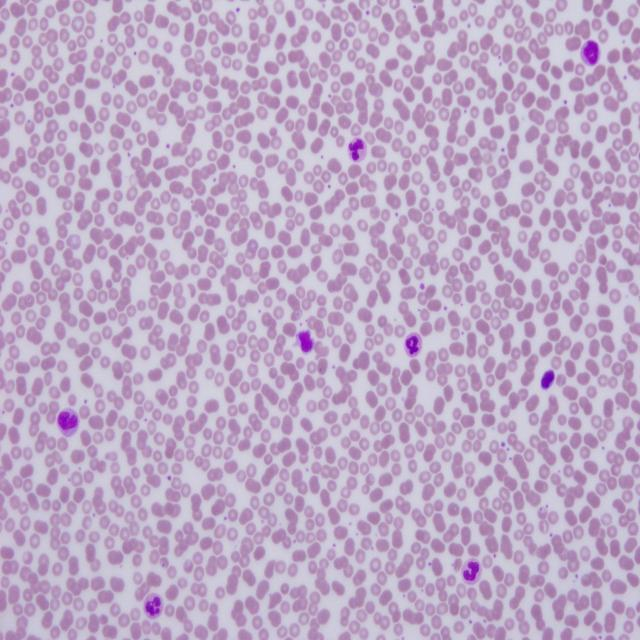cell: (348, 137, 366, 163), (144, 593, 162, 618), (462, 559, 480, 582), (405, 333, 422, 357)
